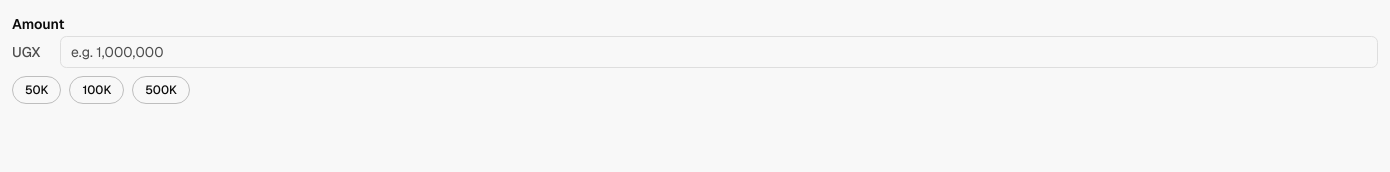
Test: MoneyInput › presets › clicking a different preset updates the value
Click the button "50K" at x=37, y=90, box [12, 76, 61, 104]
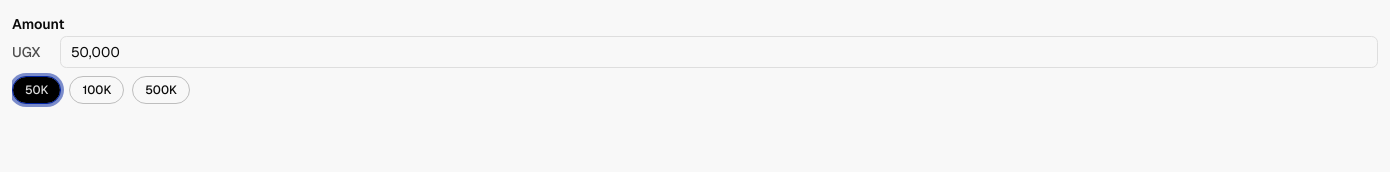
Result: the field labelled "Amount" holds "50,000" at [60, 36, 1378, 68]
Click the button "500K" at x=161, y=90, box [132, 76, 190, 104]
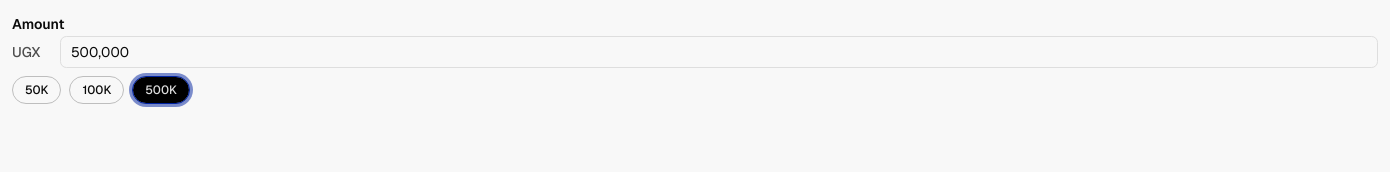
Result: the field labelled "Amount" holds "500,000" at [60, 36, 1378, 68]
